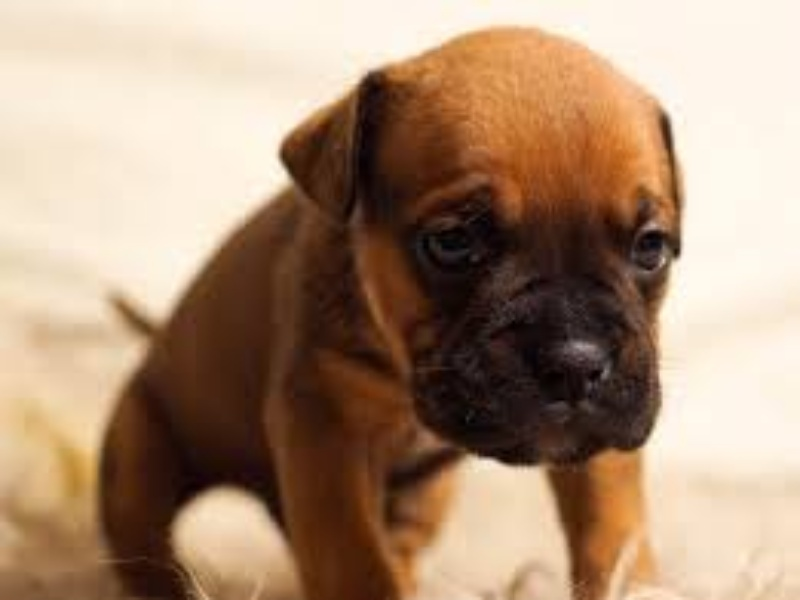dog: (86, 18, 691, 600)
